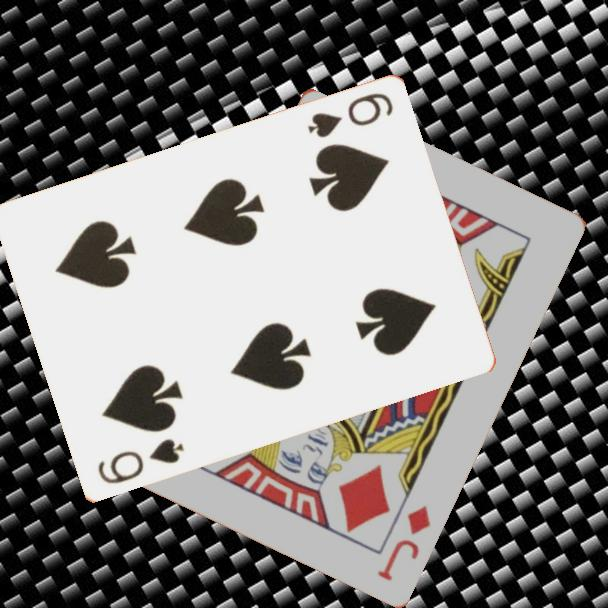d11: (373, 501, 434, 584)
s06: (94, 435, 187, 488), (303, 89, 396, 142)
